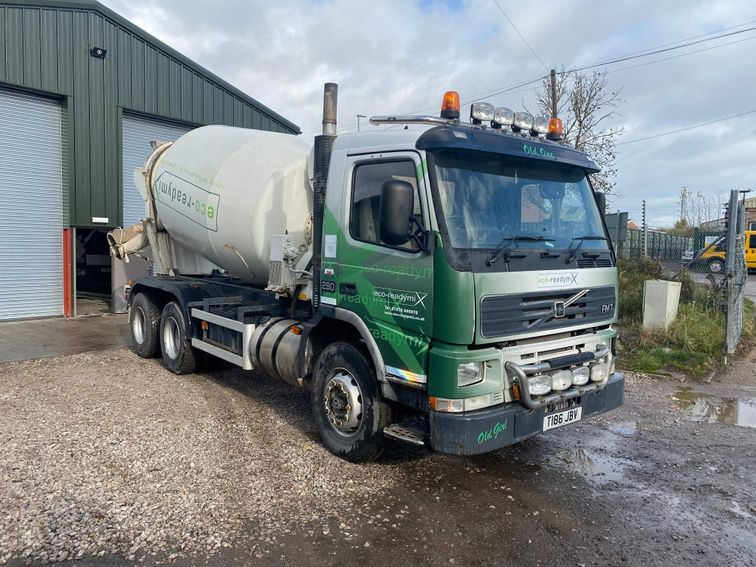Semi: (106, 82, 623, 457)
